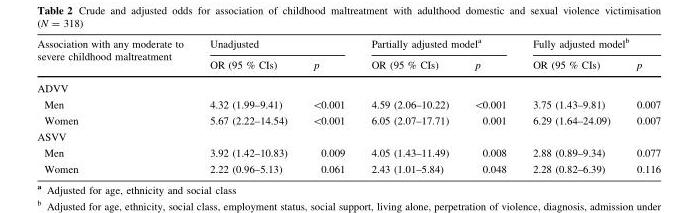table: (36, 36, 660, 174)
table column: (36, 36, 196, 174), (518, 36, 622, 174), (196, 36, 299, 174), (357, 36, 460, 174), (299, 36, 357, 174), (460, 36, 518, 174), (622, 36, 660, 174)
table column header: (36, 36, 660, 76)
table projected row header: (36, 76, 660, 95), (36, 129, 660, 144)
table row: (36, 54, 660, 76), (36, 76, 660, 95), (36, 36, 660, 54), (36, 95, 660, 112), (36, 112, 660, 129), (36, 144, 660, 161), (36, 129, 660, 144), (36, 161, 660, 174)
table spanning cell: (36, 36, 196, 76), (196, 36, 357, 54), (357, 36, 518, 54), (518, 36, 660, 54)
